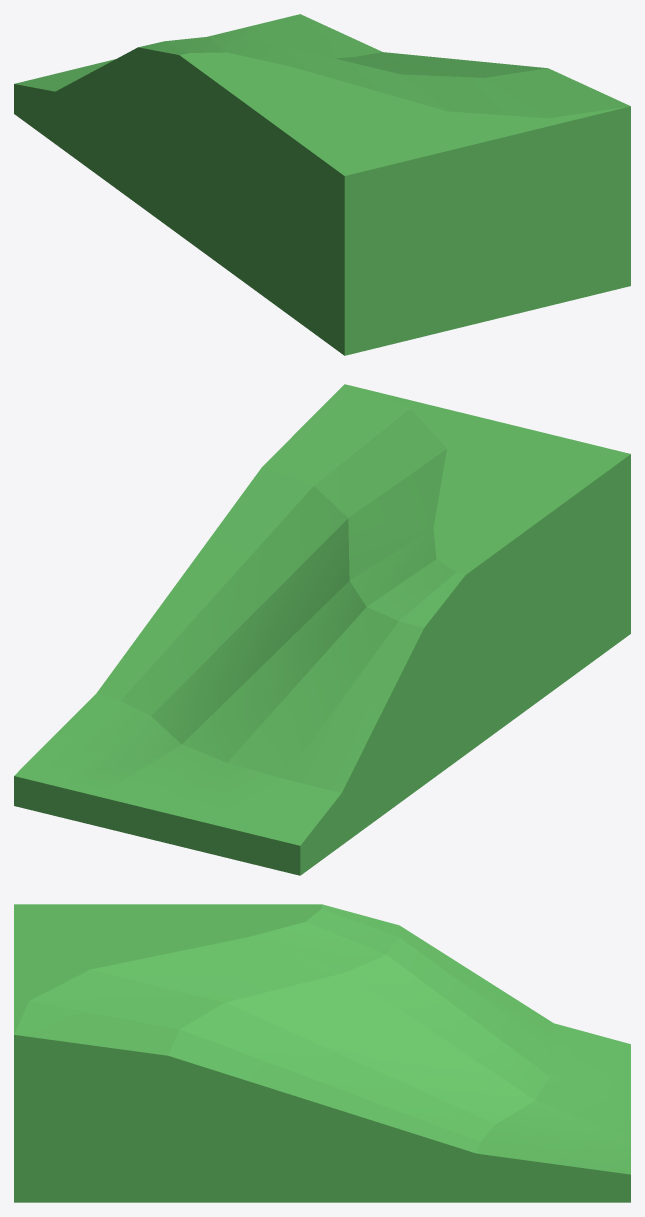
The model's file is Hill_Side_Transition_From_Gentle.glb.
3 views of the same model, one above another, from view 1: azimuth 30°, elevation 25°; view 2: azimuth 150°, elevation 25°; view 3: azimuth 270°, elevation 25° (orthographic). The views are drawn at different scales.
Parts seen in each view (by area): view 1: object1; view 2: object1; view 3: object1.
Boxes of the visible parts, left/top/right/bottom form: object1: left=14, top=14, right=630, bottom=355; object1: left=14, top=384, right=630, bottom=875; object1: left=14, top=904, right=630, bottom=1202.
Bounding box in the file's own units: 2 × 1.2 × 4.
